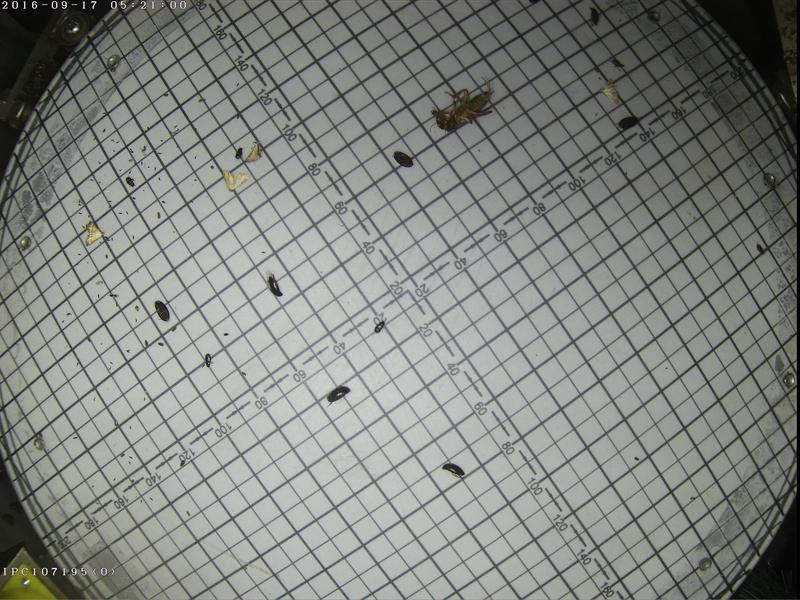Gryllotalpa orientalis: (430, 81, 498, 134)
Rice Leaf Roller: (83, 221, 104, 241), (246, 139, 262, 162)
